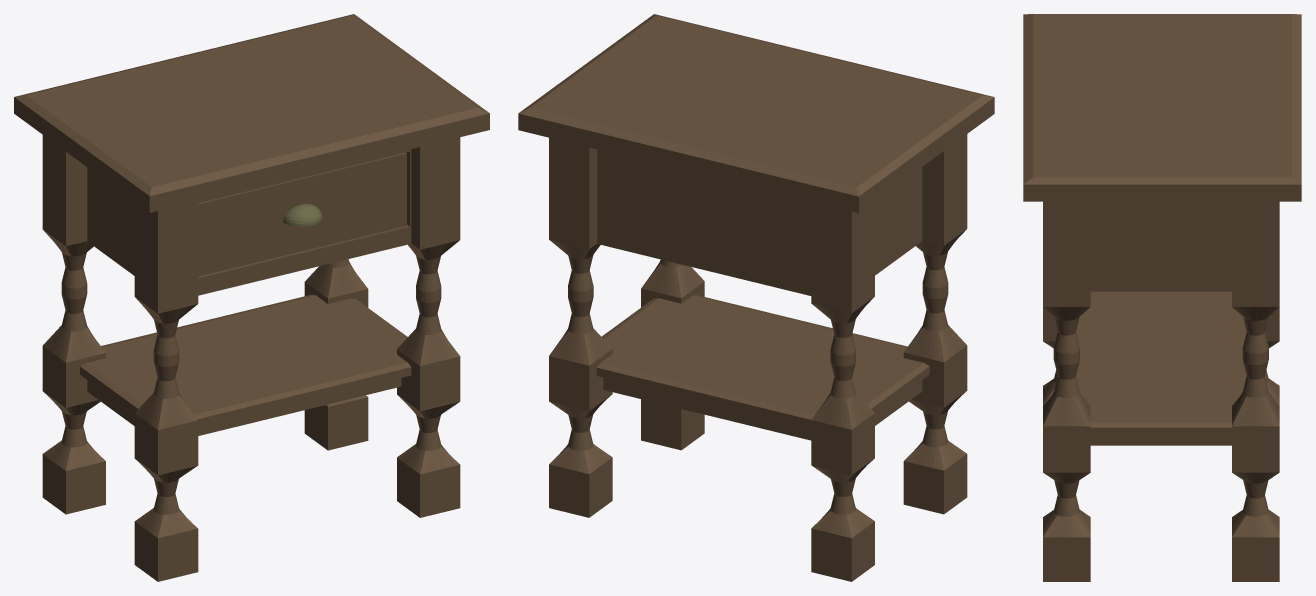
The model's file is bedside-table-fbx.fbx.
The picture shows the model from 3 angles, left to right: view 1: azimuth 30°, elevation 25°; view 2: azimuth 150°, elevation 25°; view 3: azimuth 270°, elevation 25°; orthographic projection. The views are drawn at different scales.
Visible parts, largest first — view 1: bedside-table, drawer, drawer-handle; view 2: bedside-table; view 3: bedside-table.
Boxes of the visible parts, x1,y1,x2,y2 form: bedside-table: (14,14,489,581); drawer: (198,152,406,276); drawer-handle: (283,204,322,226); bedside-table: (518,14,994,581); bedside-table: (1023,14,1301,581).
Size of what is drawn, in the model's own units: 0.4569 by 0.5145 by 0.3157.
